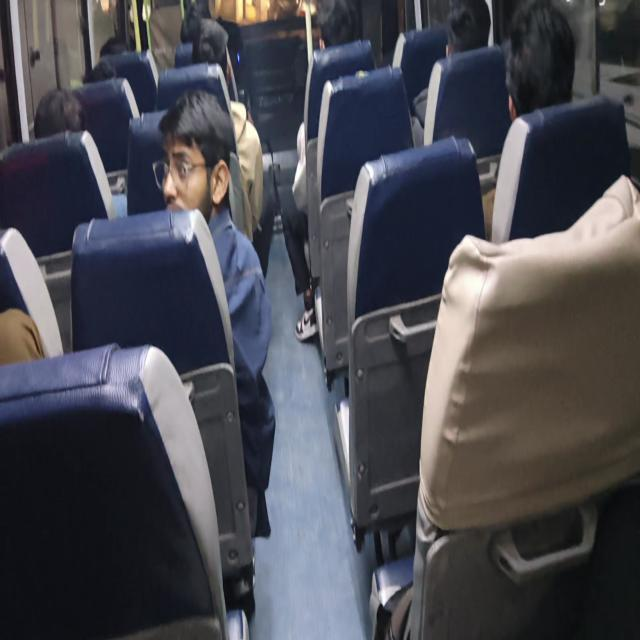person: (152, 125, 262, 236), (506, 13, 574, 122), (181, 25, 251, 79), (308, 6, 367, 63), (433, 2, 482, 45), (38, 105, 88, 145), (82, 68, 124, 96), (93, 32, 135, 58)
